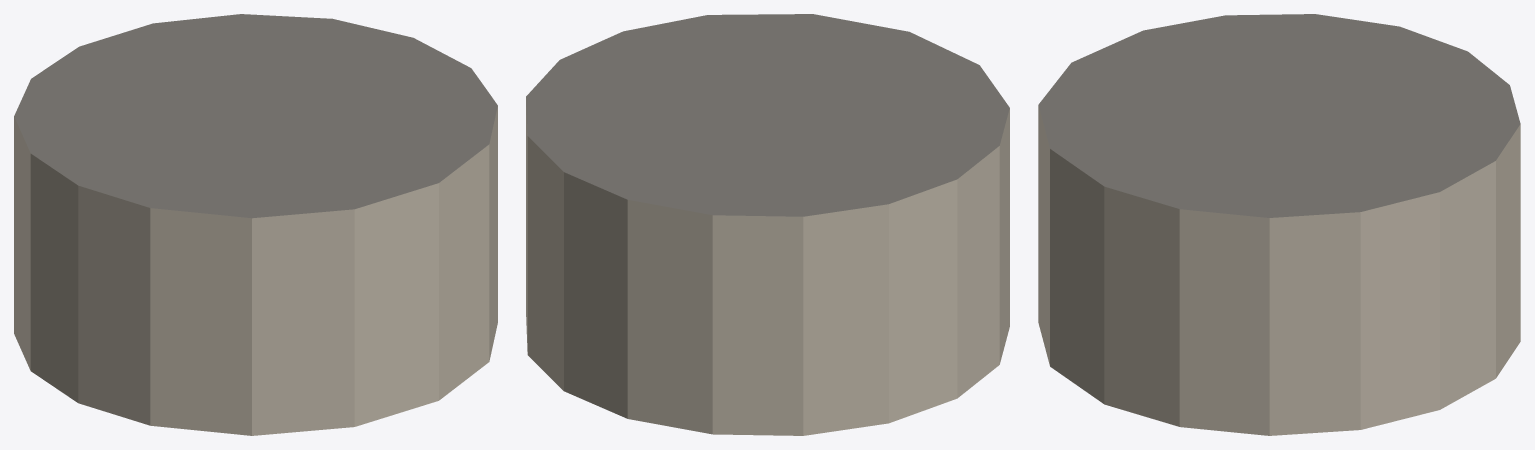
The picture shows the model from 3 angles, left to right: view 1: azimuth 30°, elevation 25°; view 2: azimuth 150°, elevation 25°; view 3: azimuth 270°, elevation 25°; orthographic projection.
Visible parts, largest first — view 1: HP-w299224149; view 2: HP-w299224149; view 3: HP-w299224149.
Boxes of the visible parts, x1=… form: HP-w299224149: x1=14, y1=14, x2=497, y2=435; HP-w299224149: x1=526, y1=14, x2=1009, y2=435; HP-w299224149: x1=1038, y1=14, x2=1520, y2=435.
Size of the model in its own units: 36.15 by 18 by 36.1.
